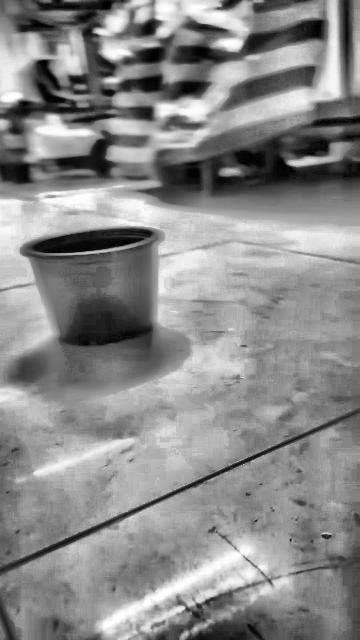pot: (21, 227, 161, 346)
